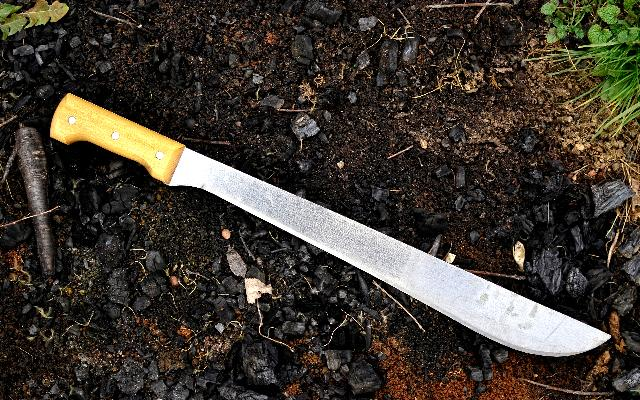long knife: (45, 77, 620, 371)
